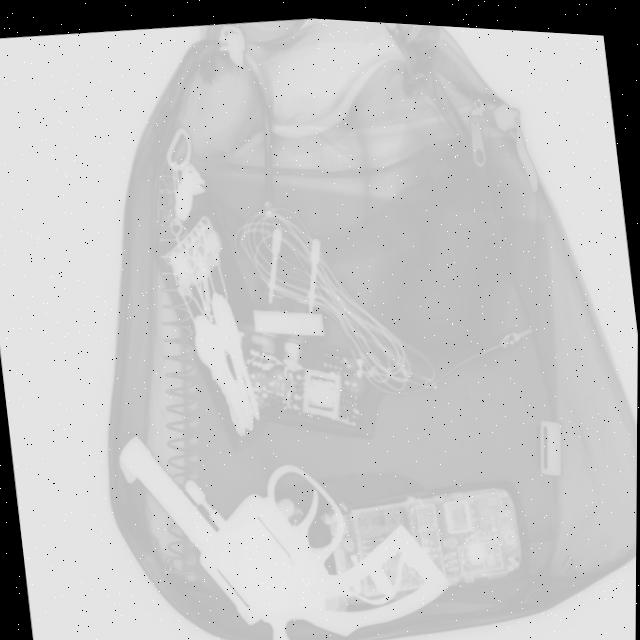pistol: (109, 391, 462, 640)
